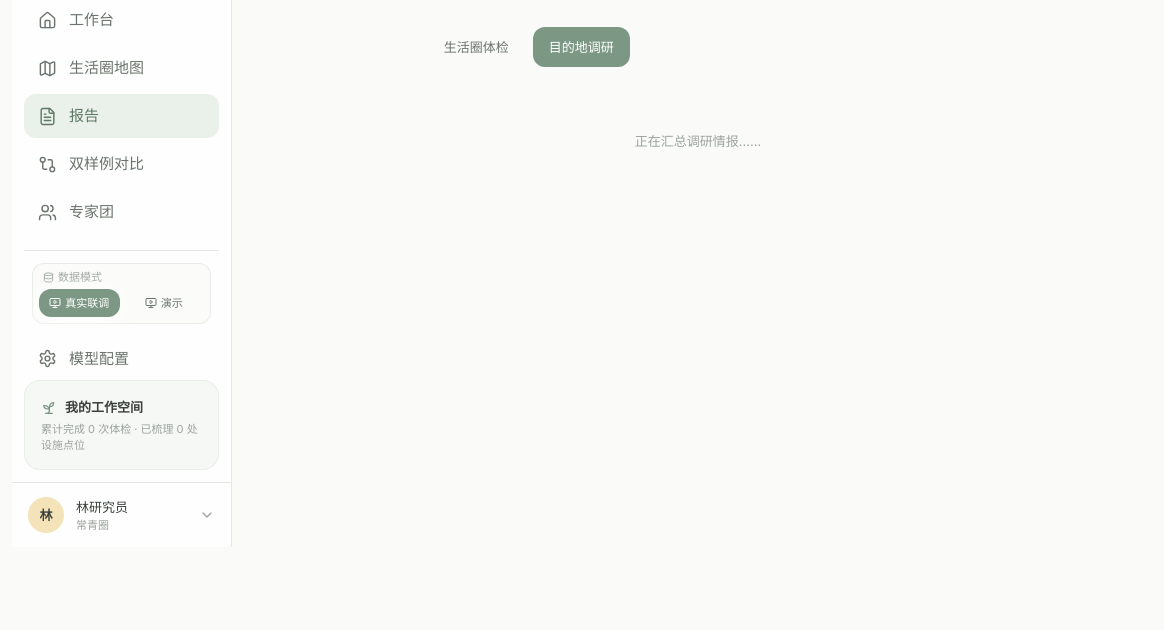
数据模式开关 → 调研屏（用户入口全链路） › 生活圈屏在演示态走内置快照，不受调研屏禁用影响
The image size is (1164, 630).
What coordinates should you click on to do the following:
click the button "演示"
I would click on:
 (164, 303)
Its box is x1=124 y1=289 x2=204 y2=317.
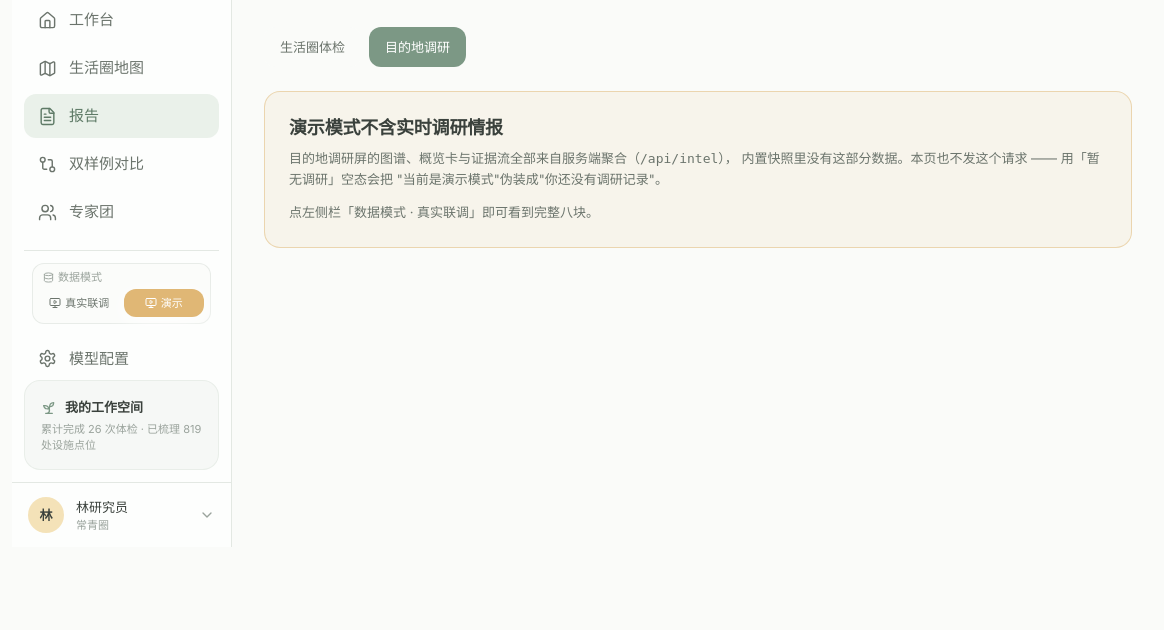
Now the heading "演示模式不含实时调研情报" is shown, box x1=289 y1=117 x2=503 y2=138
What coordinates should you click on to do the following:
click the tab "生活圈体检"
I would click on:
 (312, 47)
Its box is x1=264 y1=27 x2=361 y2=67.
(page scrolled)
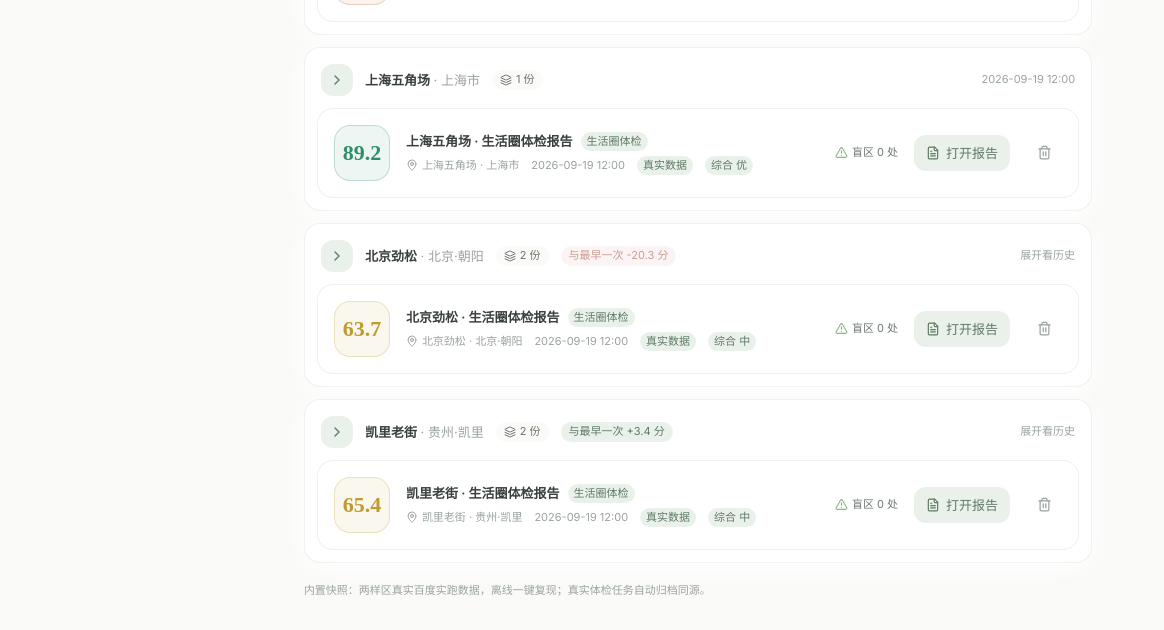
Now the button "凯里老街 · 生活圈体检报告" is shown, box x1=406 y1=483 x2=560 y2=504
